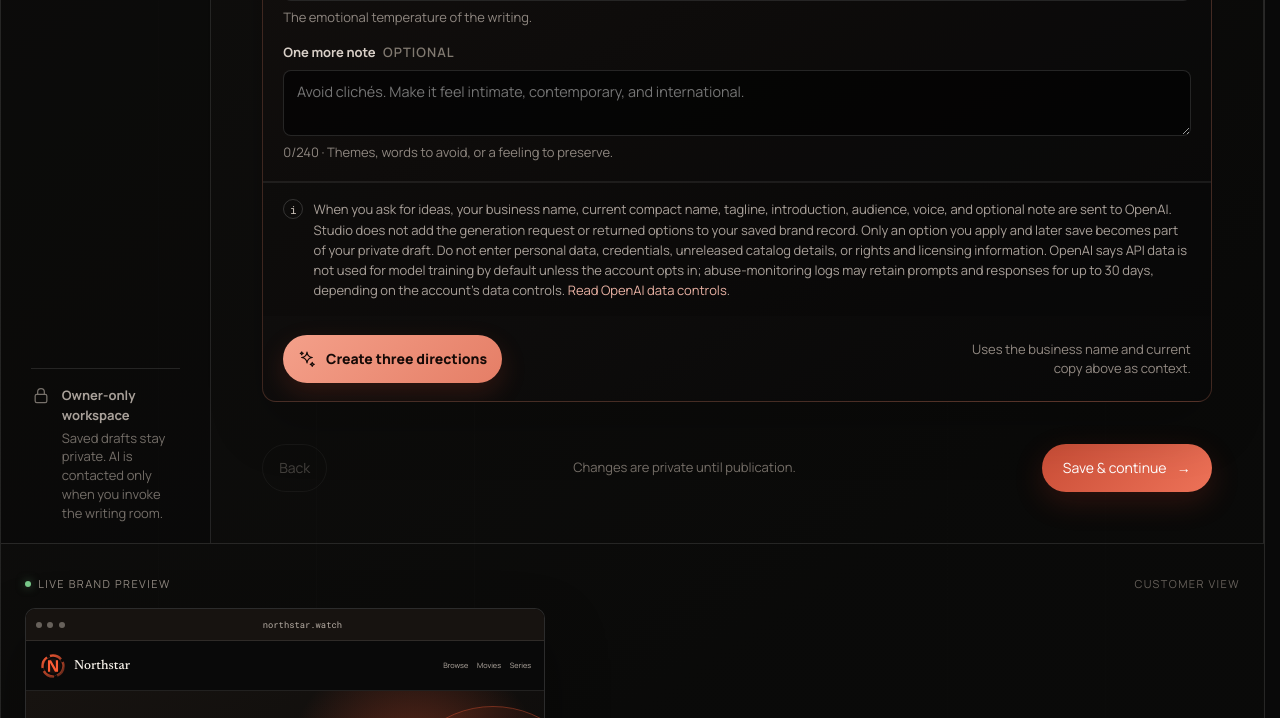
Test: LaunchSetupWizard › keeps AI failures retryable without replacing current copy
(page scrolled)
Click the button "Create three directions". click: (393, 359)
box: [283,335,502,383]
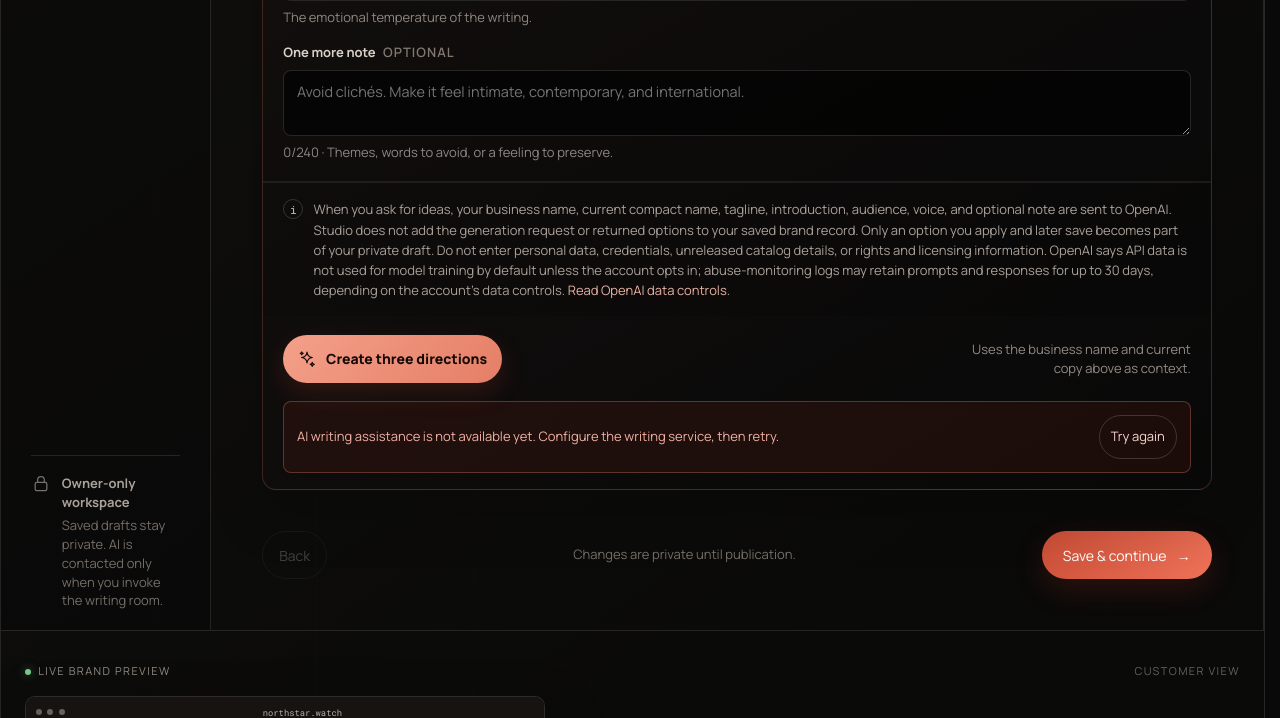
Expected: the message shows "AI writing assistance is not available yet.", [297,427,779,445]
Expected: the button "Try again" is enabled
Click the button "Try again". click: (1138, 437)
box: [1099,415,1177,459]
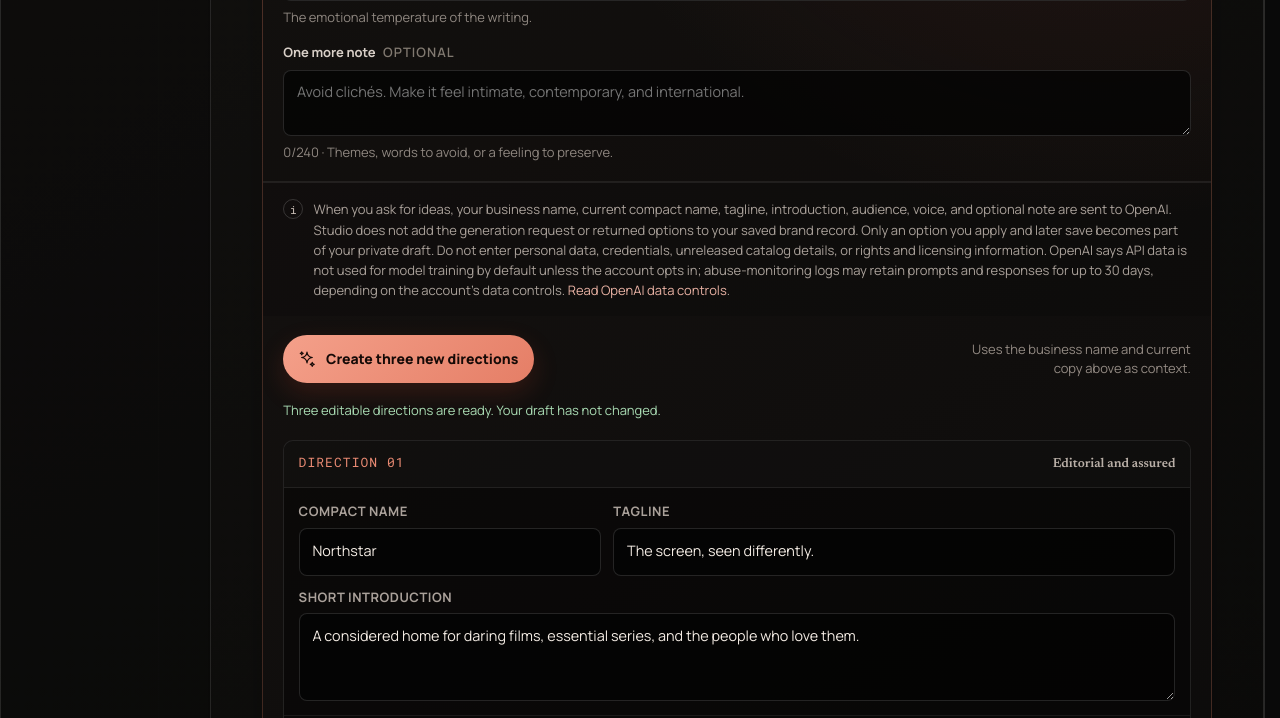
Expected: the field named "Tagline, direction 1" is shown, [613,528,1176,576]
